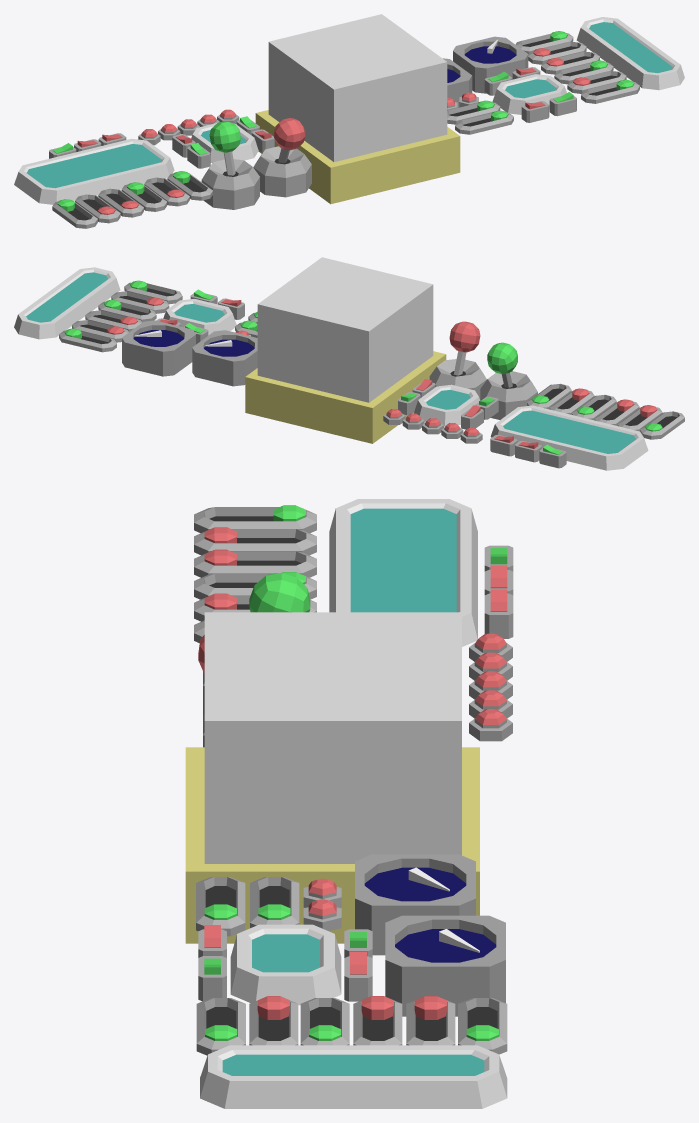
Rendered from ControlPanel.fbx.
The picture shows the model from 3 angles, top to bottom: view 1: azimuth 30°, elevation 25°; view 2: azimuth 150°, elevation 25°; view 3: azimuth 270°, elevation 25°; orthographic projection. The views are drawn at different scales.
Visible parts, largest first — view 1: ControlPanel, RedButton_Barrier; view 2: ControlPanel, RedButton_Barrier; view 3: ControlPanel, RedButton_Barrier.
Boxes of the visible parts, x1=… form: ControlPanel: x1=14, y1=17, x2=684, y2=228; RedButton_Barrier: x1=268, y1=14, x2=447, y2=161; ControlPanel: x1=14, y1=267, x2=684, y2=470; RedButton_Barrier: x1=257, y1=257, x2=433, y2=402; ControlPanel: x1=185, y1=499, x2=513, y2=1108; RedButton_Barrier: x1=204, y1=612, x2=461, y2=863.
Bounding box in the file's own units: 2846 × 484 × 670.
